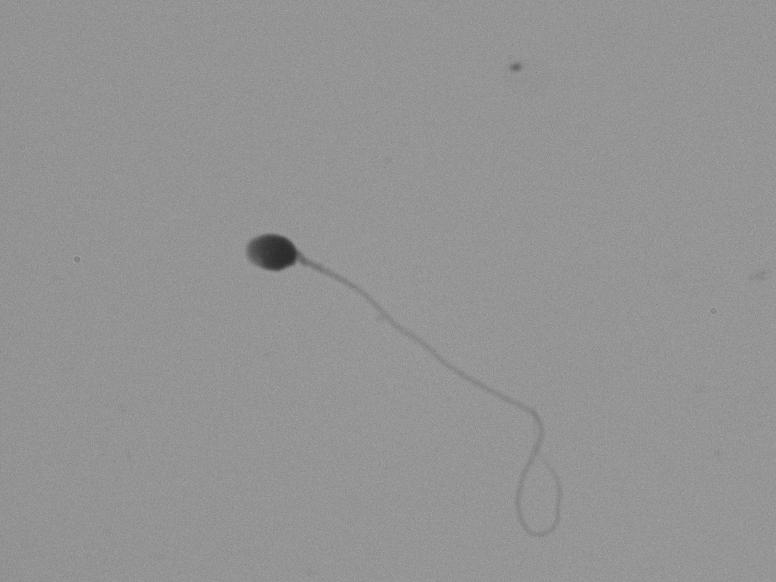Normal: (213, 128, 572, 545)
